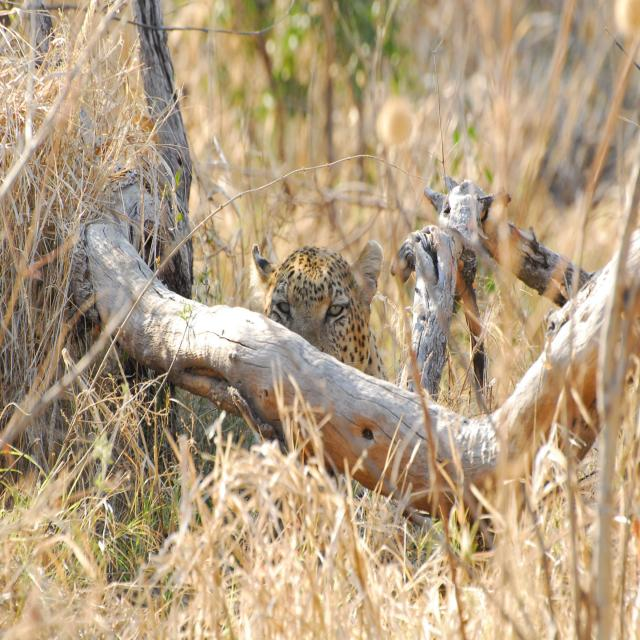Leopard: (248, 254, 388, 382)
